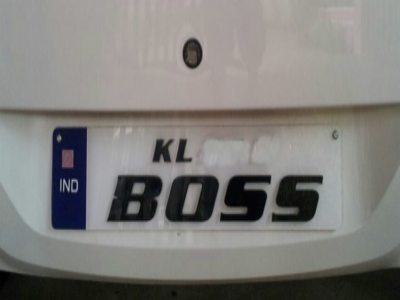licence: (87, 128, 339, 228)
